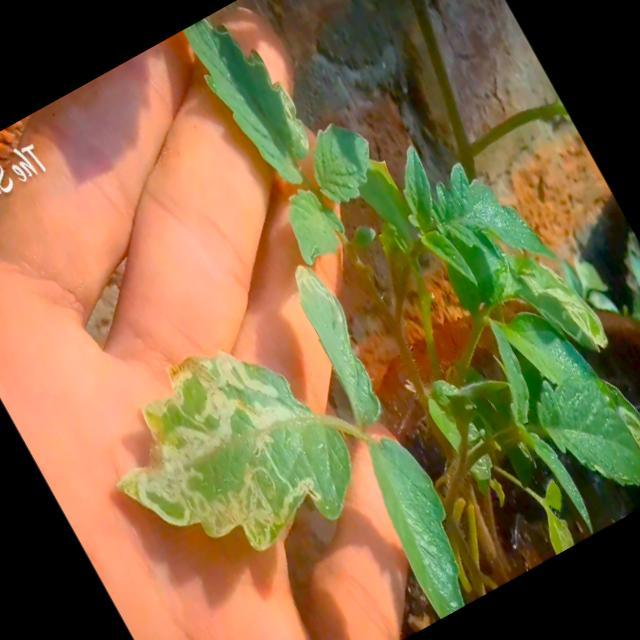Tomato healthy leaf: (344, 416, 495, 620), (420, 139, 560, 298), (295, 109, 394, 214), (374, 138, 454, 237), (274, 178, 356, 268)
Tomato target spot leaf: (73, 302, 379, 609), (177, 0, 332, 204), (278, 254, 402, 432), (520, 336, 640, 517), (488, 228, 616, 378)
